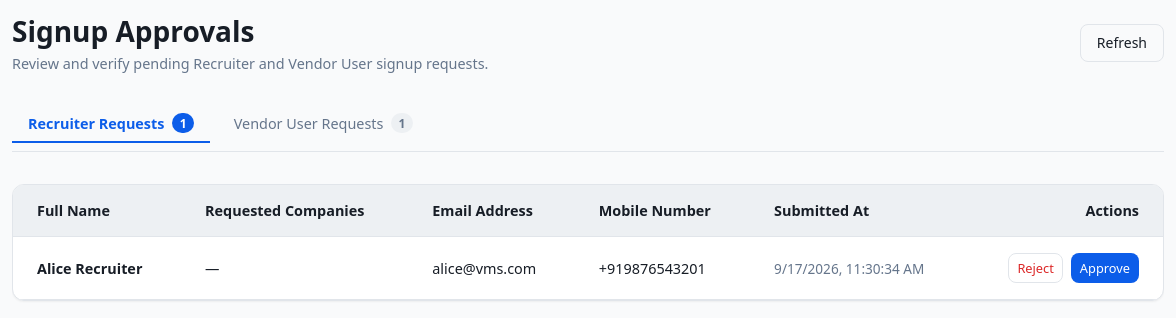
Scenario: Vendor User Signup & Approvals Workflow › Admin Approvals Page › renders unified recruiter and vendor requests tabs for admin recruiter
Expected: the text "Alice Recruiter" is shown, [13,237,181,300]
Switch to Vendor User Requests tab
Click the button "Vendor User Requests 1" at (323,124), box [218,105,429,143]
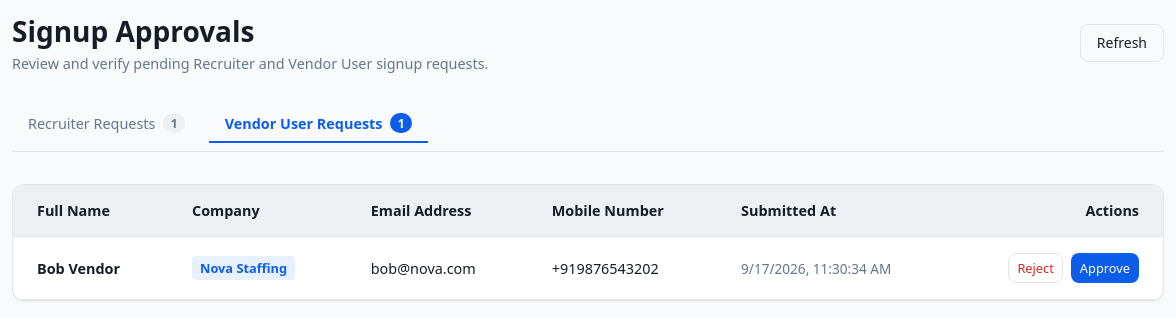
Expected: the text "Bob Vendor" is shown, [13,237,168,300]
Expected: the text "Nova Staffing" is shown, [192,256,295,280]
Expected: the text "bob@nova.com" is shown, [347,237,528,300]
